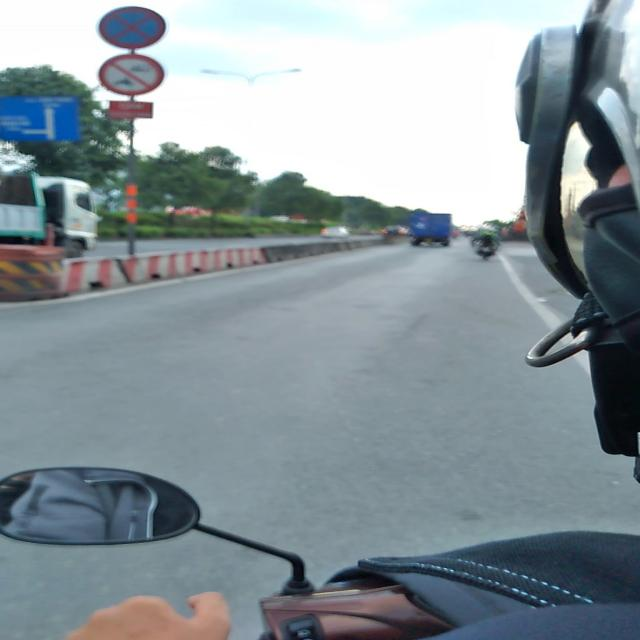Cam dung va do: (98, 6, 167, 49)
